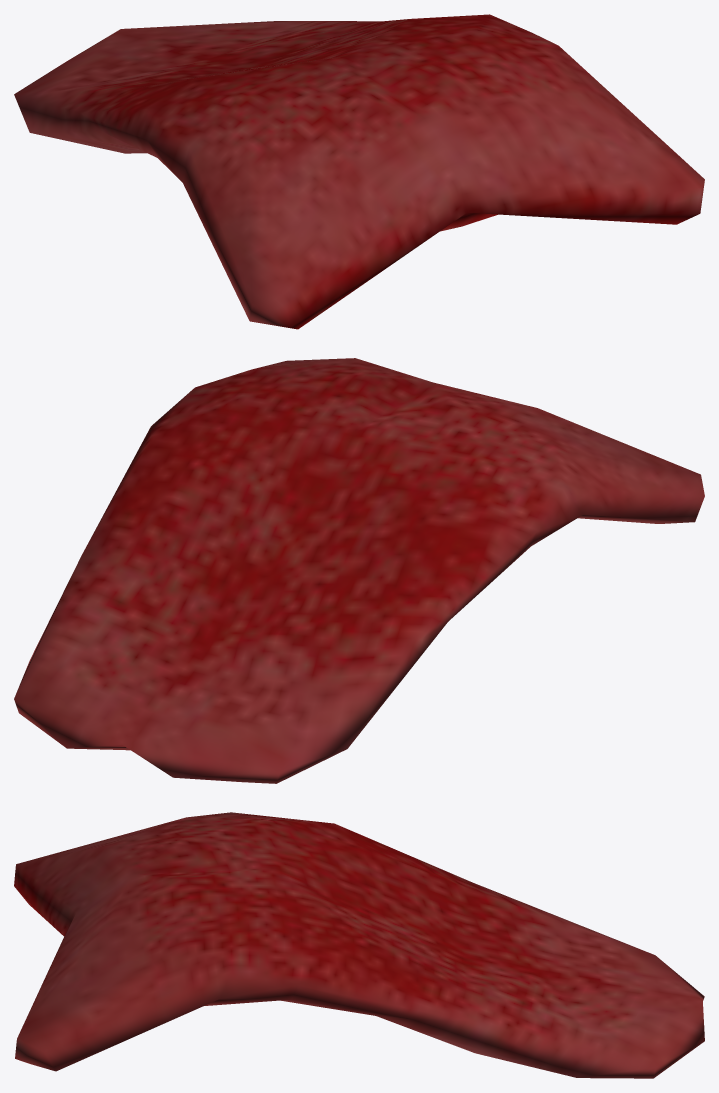
The model's file is Soft_Palate.glb.
The picture shows the model from 3 angles, top to bottom: view 1: azimuth 30°, elevation 25°; view 2: azimuth 150°, elevation 25°; view 3: azimuth 270°, elevation 25°; orthographic projection. The views are drawn at different scales.
Visible parts, largest first — view 1: soft_palate.004; view 2: soft_palate.004; view 3: soft_palate.004.
Part boxes in pixels (x1=…): soft_palate.004: x1=14, y1=14, x2=704, y2=329; soft_palate.004: x1=14, y1=358, x2=704, y2=783; soft_palate.004: x1=14, y1=812, x2=704, y2=1078.
Size of the model in its own units: 0.0851 by 0.0339 by 0.122.
Materials: 1 (1 with a texture image).
